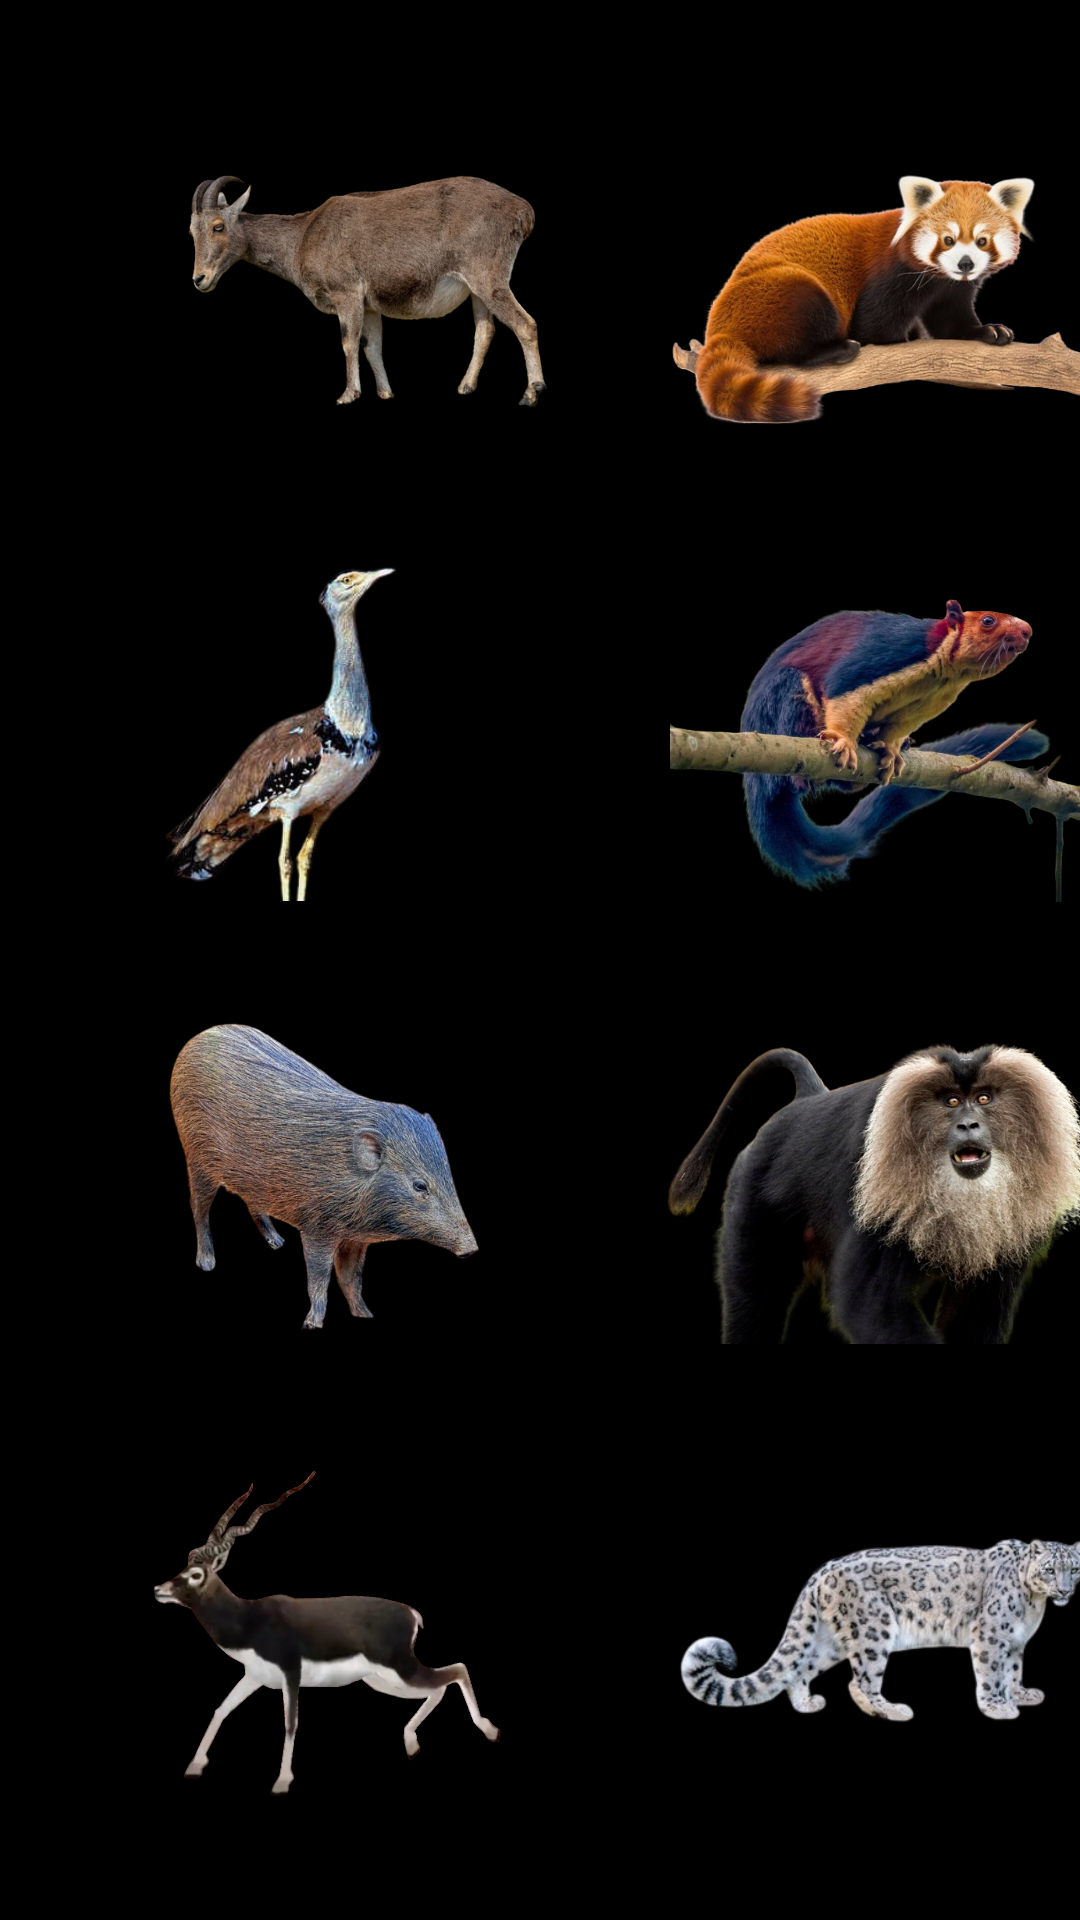

Point at icon controls on the screen. Image size 1080w x 1920h, points as (x,y).
blackbuck: (327,1632)
indianbustard: (281,734)
nilgiritahr: (367,291)
pygmyhog: (324,1176)
